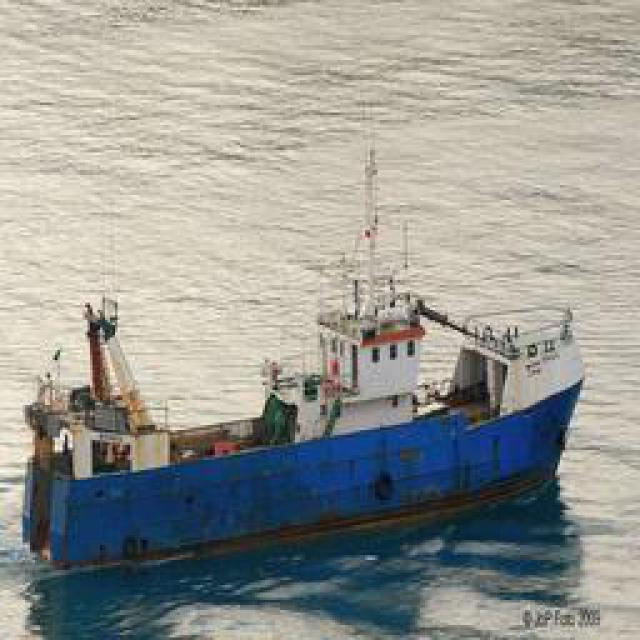Ship: (20, 165, 585, 575)
